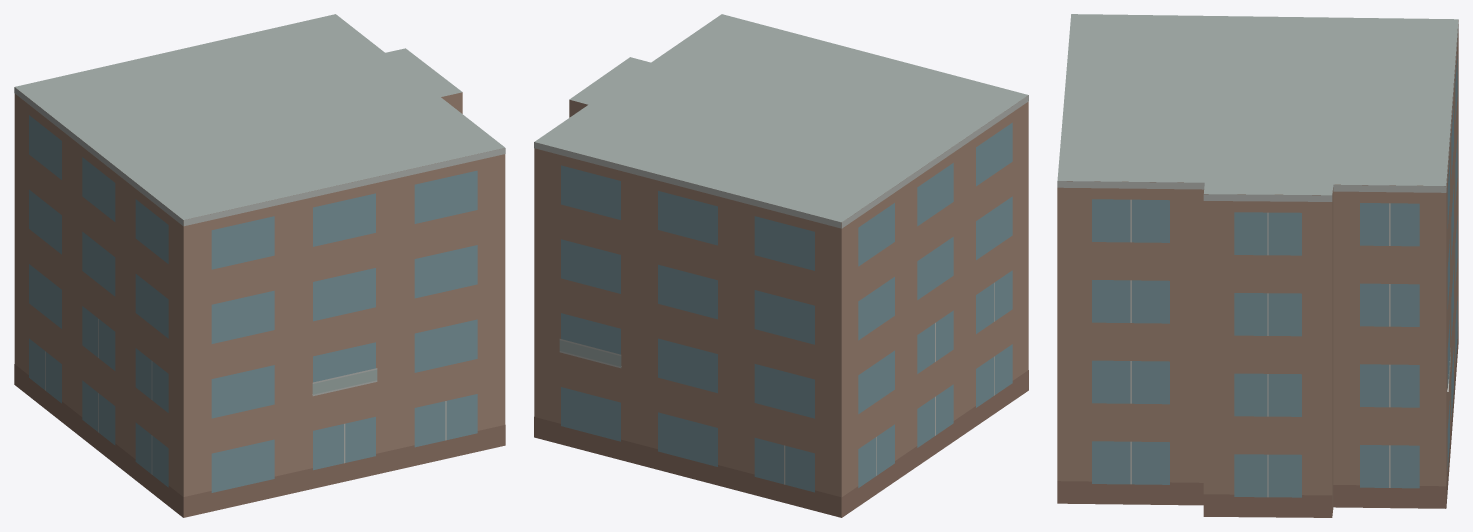
The model's file is survey-upis-32918252.glb.
3 renders of one model, left to right at view 1: azimuth 30°, elevation 25°; view 2: azimuth 150°, elevation 25°; view 3: azimuth 270°, elevation 25°, orthographic. The views are drawn at different scales.
Visible parts, largest first — view 1: survey-upis-32918252.tmp; view 2: survey-upis-32918252.tmp; view 3: survey-upis-32918252.tmp.
Part boxes in pixels (bbox=[...]): survey-upis-32918252.tmp: bbox=[14, 14, 505, 517]; survey-upis-32918252.tmp: bbox=[534, 14, 1028, 517]; survey-upis-32918252.tmp: bbox=[1057, 14, 1458, 517].
Bounding box in the file's own units: 13.92 × 11.55 × 13.02.
